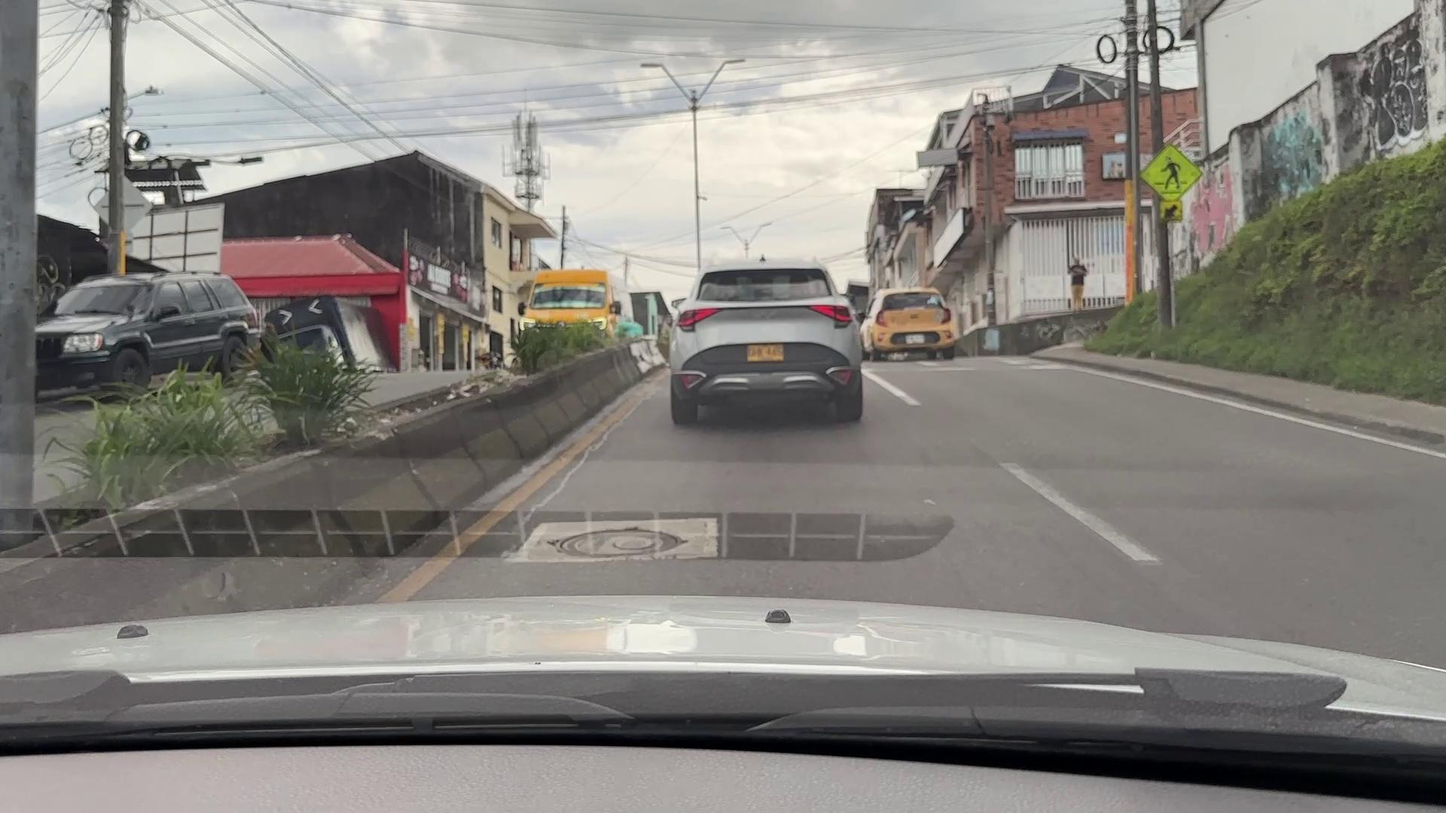registro: (559, 529, 678, 557)
